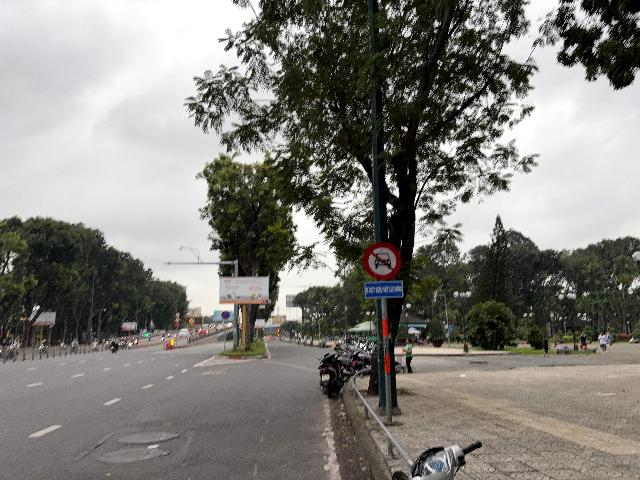cam-o-to: (363, 242, 402, 280)
